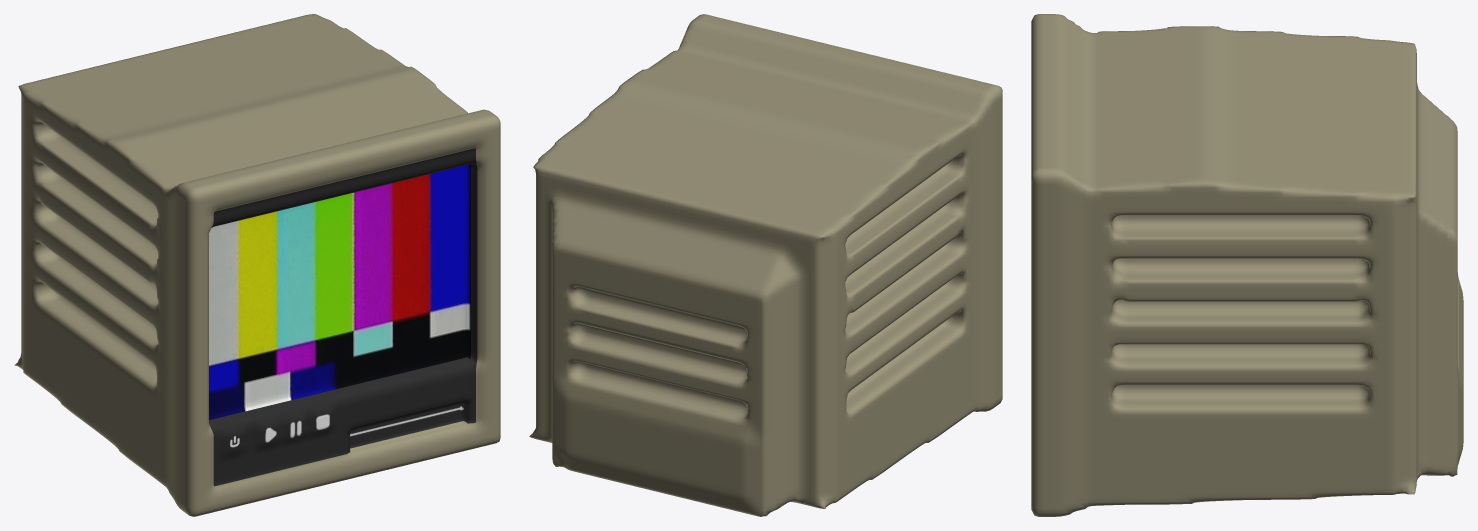
Rendered from crt_tv.glb.
3 views of the same model, side by side, from view 1: azimuth 30°, elevation 25°; view 2: azimuth 150°, elevation 25°; view 3: azimuth 270°, elevation 25° (orthographic). The views are drawn at different scales.
Parts seen in each view (by area): view 1: Cube_0; view 2: Cube_0; view 3: Cube_0.
Boxes of the visible parts, bbox=[...] form: Cube_0: bbox=[14, 14, 500, 516]; Cube_0: bbox=[529, 14, 1002, 516]; Cube_0: bbox=[1031, 14, 1463, 516].
Bounding box in the file's own units: 0.6716 × 0.6779 × 0.7568.
Materials: 6 (4 with a texture image).
